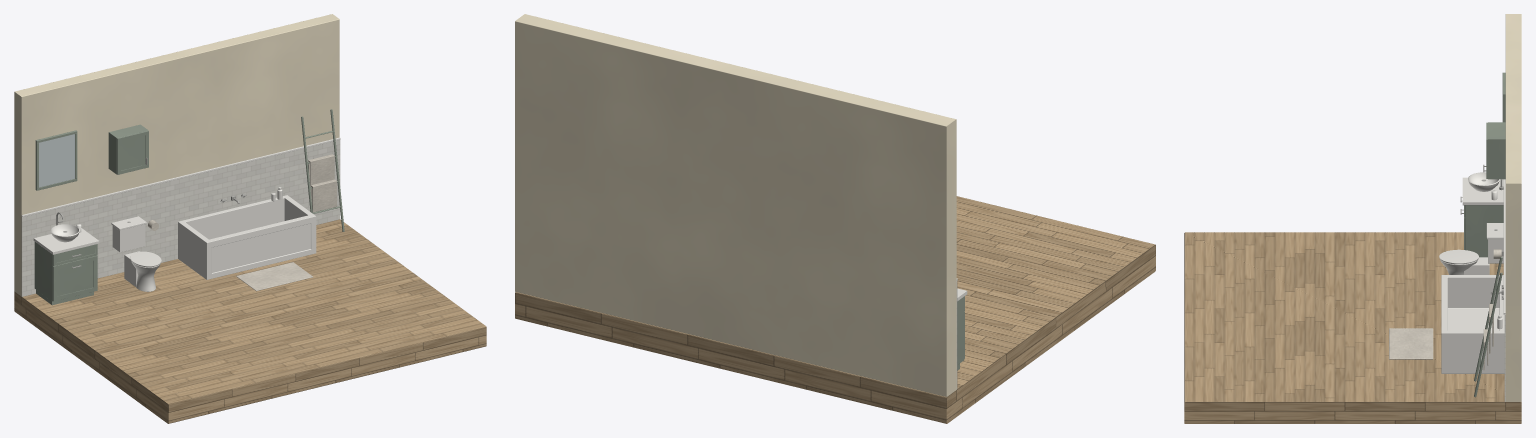
File: Room_Bathroom.fbx
The picture shows the model from 3 angles, left to right: view 1: azimuth 30°, elevation 25°; view 2: azimuth 150°, elevation 25°; view 3: azimuth 270°, elevation 25°; orthographic projection. The views are drawn at different scales.
Visible parts, largest first — view 1: Bathroom_Floor, Bathroom_BackWall, Bathroom_WallTiles, Bathroom_Bathtub, Bathroom_Vanity, Bathroom_Toilet, Bathroom_Mirror, Bathroom_TowelLadder, Bathroom_WallCabinet, Bathroom_BathMat, Bathroom_Basin; view 2: Bathroom_BackWall, Bathroom_Floor, Bathroom_Vanity; view 3: Bathroom_Floor, Bathroom_BackWall, Bathroom_Bathtub, Bathroom_Vanity, Bathroom_Toilet, Bathroom_BathMat, Bathroom_WallCabinet, Bathroom_TowelLadder, Bathroom_WallTiles, Bathroom_Basin.
Boxes of the visible parts, box(x1,y1,x2,y2) form: Bathroom_Floor: box(14, 219, 486, 423); Bathroom_BackWall: box(14, 14, 339, 296); Bathroom_WallTiles: box(21, 137, 340, 296); Bathroom_Bathtub: box(178, 187, 316, 279); Bathroom_Vanity: box(33, 228, 99, 305); Bathroom_Toilet: box(111, 216, 161, 291); Bathroom_Mirror: box(35, 130, 77, 190); Bathroom_TowelLadder: box(301, 109, 344, 231); Bathroom_WallCabinet: box(108, 124, 148, 174); Bathroom_BathMat: box(236, 262, 312, 291); Bathroom_Basin: box(50, 212, 81, 242); Bathroom_BackWall: box(515, 14, 956, 396); Bathroom_Floor: box(515, 196, 1155, 423); Bathroom_Vanity: box(957, 288, 967, 370); Bathroom_Floor: box(1184, 232, 1521, 423); Bathroom_BackWall: box(1505, 14, 1521, 401); Bathroom_Bathtub: box(1441, 275, 1504, 373); Bathroom_Vanity: box(1460, 177, 1503, 257); Bathroom_Toilet: box(1439, 223, 1503, 274); Bathroom_BathMat: box(1389, 328, 1433, 359); Bathroom_WallCabinet: box(1483, 122, 1505, 179); Bathroom_TowelLadder: box(1474, 257, 1502, 396); Bathroom_WallTiles: box(1503, 179, 1505, 401); Bathroom_Basin: box(1468, 172, 1503, 200).
Size of the model in its own units: 500 by 330 by 420.
Materials: 8 (5 with a texture image).
